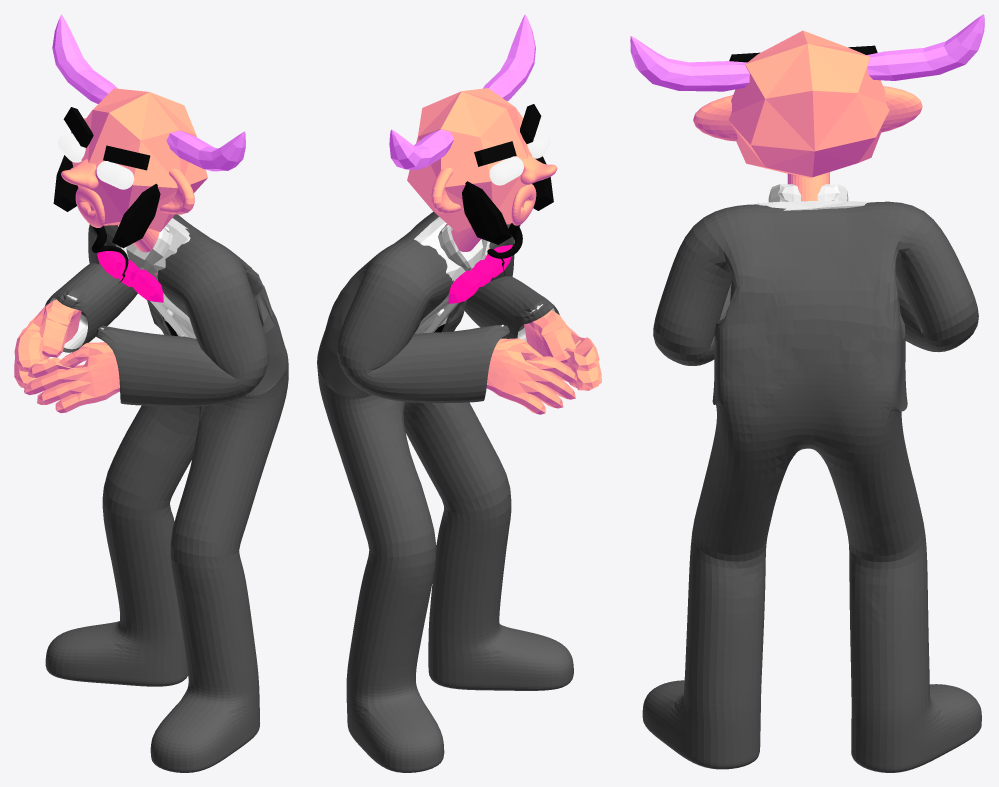
Rendered from Evans.gltf.
3 views of the same model, side by side, from view 1: azimuth 30°, elevation 25°; view 2: azimuth 150°, elevation 25°; view 3: azimuth 270°, elevation 25° (orthographic). The views are drawn at different scales.
Visible parts, largest first — view 1: Evans-Metalic_3, Evans-Musterd_2, Evans-Grey_2, Evans-Pure Black_2, Evans-Marble White_2, Evans-Red Shadow_3, Evans-Pure White_3; view 2: Evans-Metalic_3, Evans-Musterd_2, Evans-Pure Black_2, Evans-Grey_2, Evans-Marble White_2, Evans-Red Shadow_3, Evans-Pure White_3; view 3: Evans-Metalic_3, Evans-Musterd_2, Evans-Grey_2, Evans-Marble White_2.
Part boxes in pixels (x1=…): Evans-Metalic_3: x1=44, y1=214, x2=288, y2=772; Evans-Musterd_2: x1=14, y1=88, x2=207, y2=413; Evans-Grey_2: x1=52, y1=14, x2=245, y2=171; Evans-Pure Black_2: x1=53, y1=107, x2=177, y2=335; Evans-Marble White_2: x1=49, y1=218, x2=196, y2=349; Evans-Red Shadow_3: x1=97, y1=251, x2=163, y2=302; Evans-Pure White_3: x1=58, y1=133, x2=134, y2=189; Evans-Metalic_3: x1=317, y1=211, x2=573, y2=772; Evans-Musterd_2: x1=407, y1=88, x2=601, y2=414; Evans-Pure Black_2: x1=434, y1=104, x2=553, y2=332; Evans-Grey_2: x1=389, y1=14, x2=535, y2=169; Evans-Marble White_2: x1=414, y1=217, x2=554, y2=341; Evans-Red Shadow_3: x1=448, y1=245, x2=512, y2=303; Evans-Pure White_3: x1=489, y1=129, x2=550, y2=185; Evans-Metalic_3: x1=642, y1=201, x2=981, y2=772; Evans-Musterd_2: x1=693, y1=30, x2=922, y2=201; Evans-Grey_2: x1=630, y1=14, x2=984, y2=91; Evans-Marble White_2: x1=756, y1=184, x2=867, y2=210.
Size of the model in its own units: 72.34 by 182 by 81.4.
